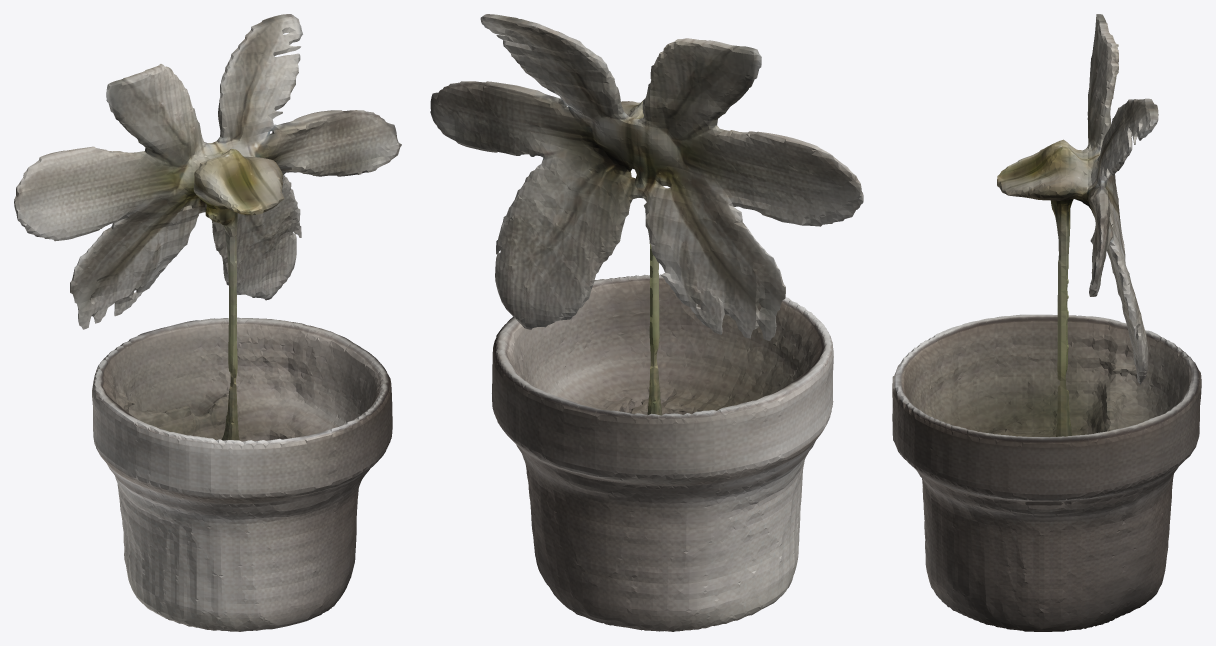
The picture shows the model from 3 angles, left to right: view 1: azimuth 30°, elevation 25°; view 2: azimuth 150°, elevation 25°; view 3: azimuth 270°, elevation 25°; orthographic projection. The views are drawn at different scales.
Visible parts, largest first — view 1: input.obj; view 2: input.obj; view 3: input.obj.
Boxes of the visible parts, x1,y1,x2,y2 form: input.obj: (14,14,401,631); input.obj: (430,14,863,631); input.obj: (892,14,1201,631).
Size of the model in its own units: 0.7868 by 1 by 0.5381.
Materials: 1 (1 with a texture image).
